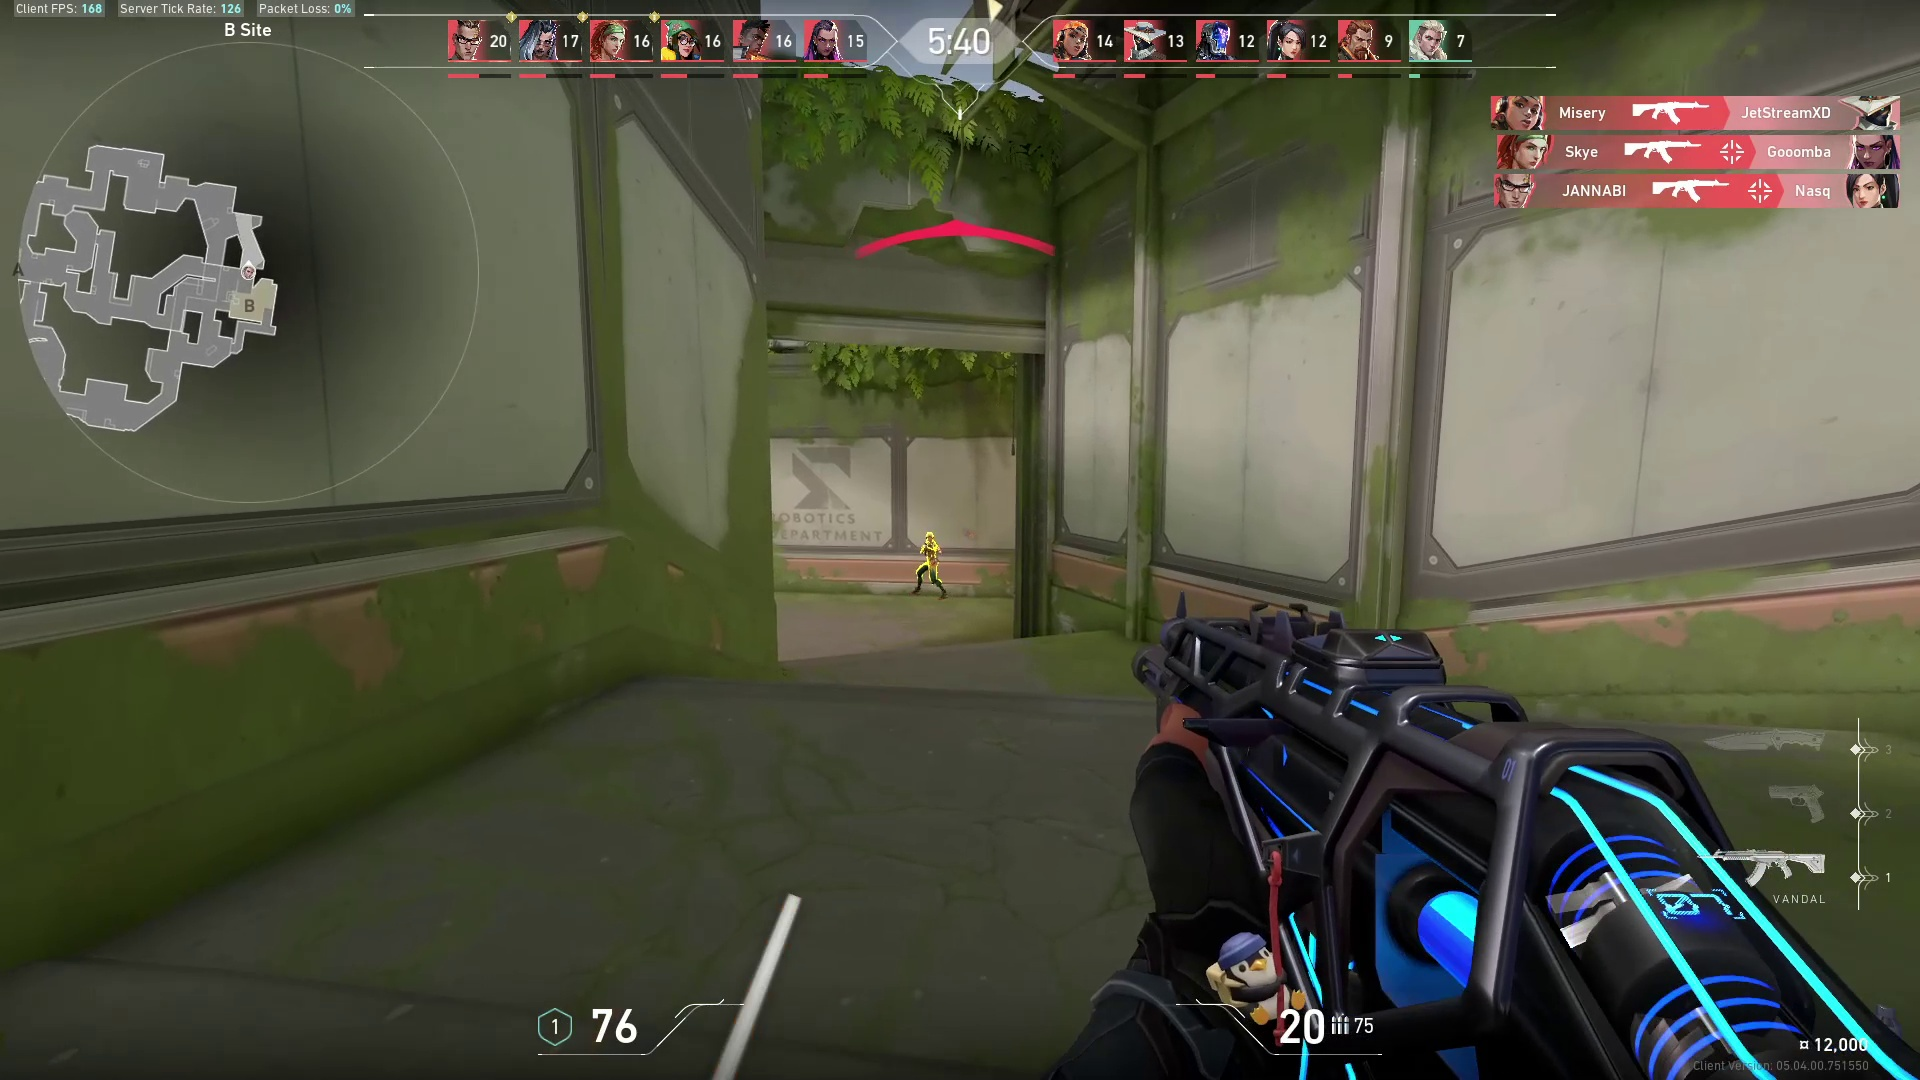enemy_body: (913, 542, 949, 601)
enemy_head: (924, 530, 936, 542)
